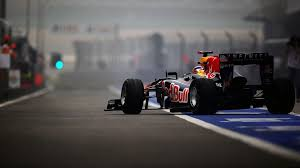FormulaOneCar: (100, 45, 300, 118)
